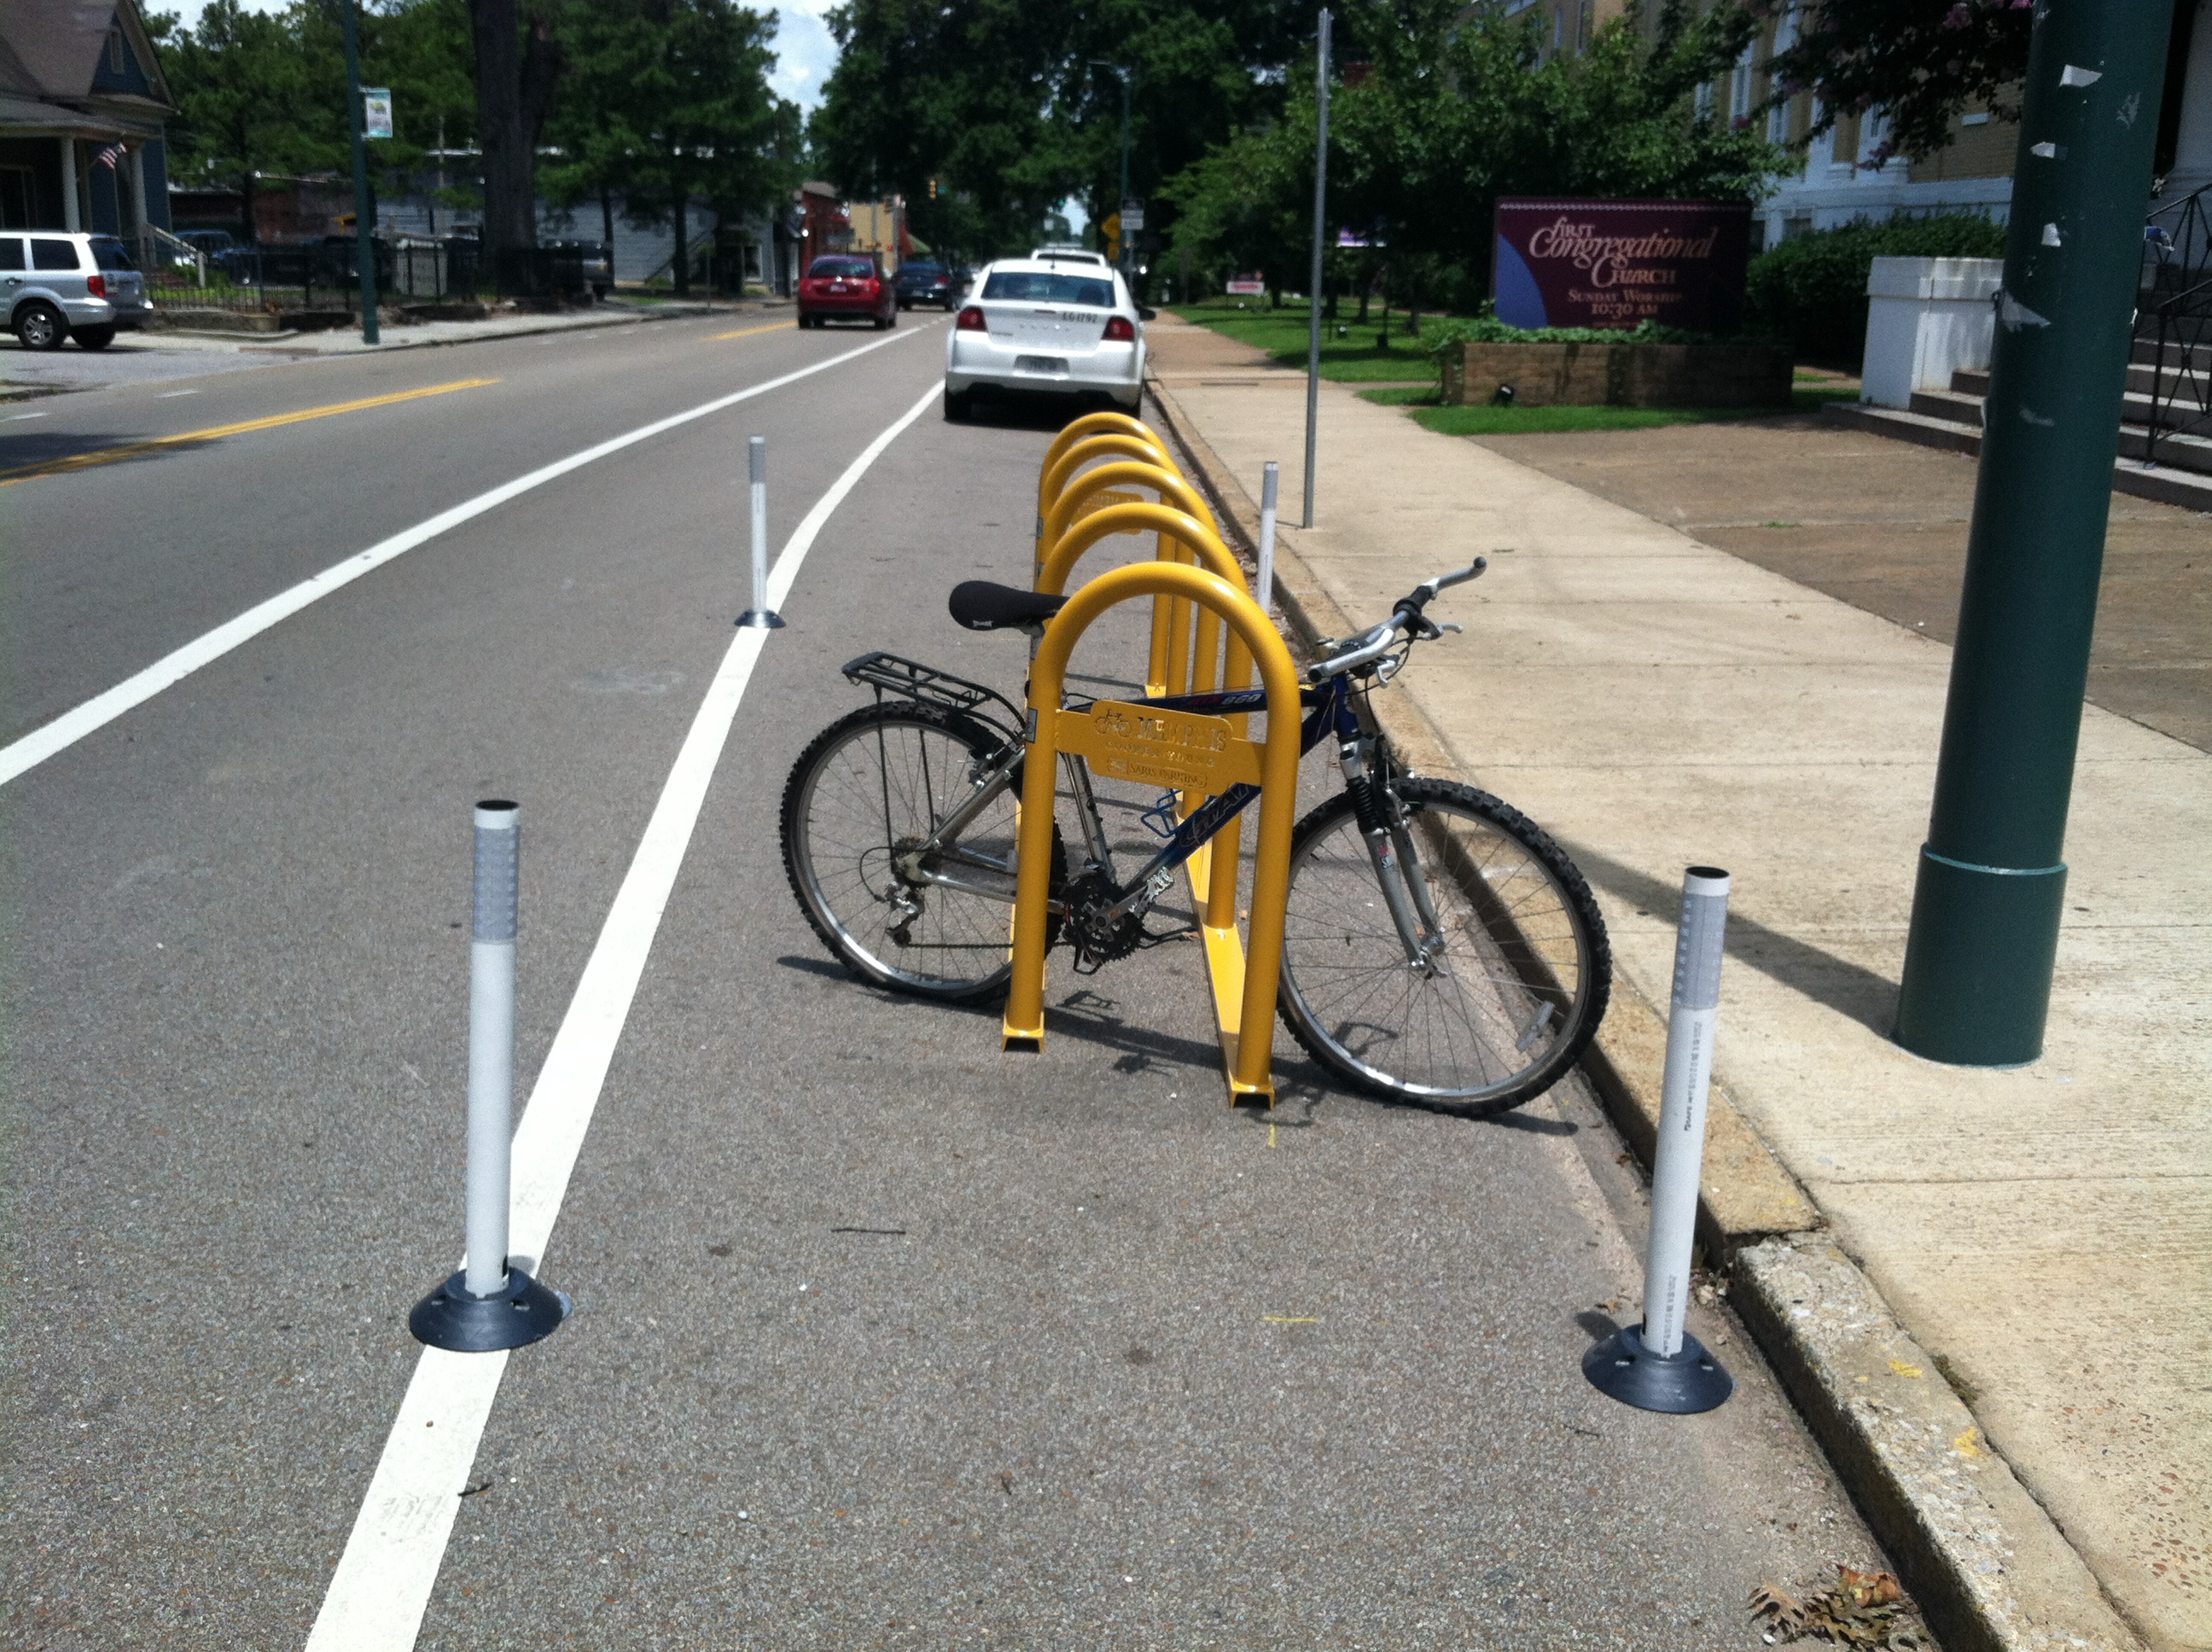bike: (763, 505, 1672, 1149)
